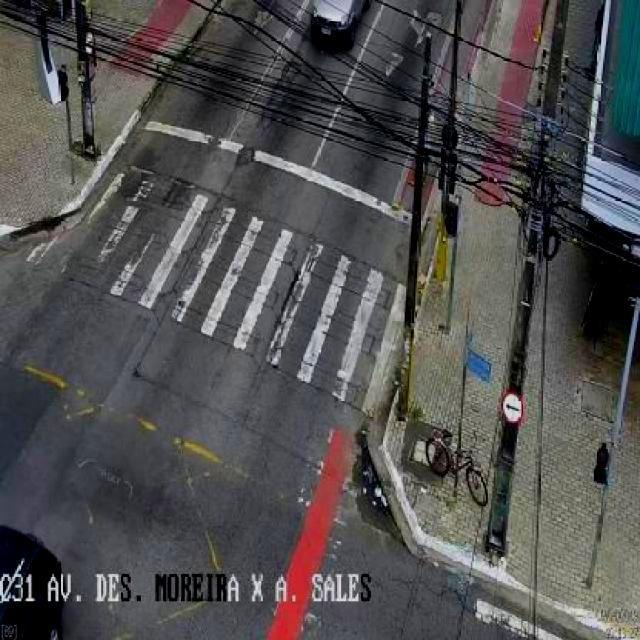Car: (308, 0, 370, 45)
Cycle: (424, 428, 491, 508)
